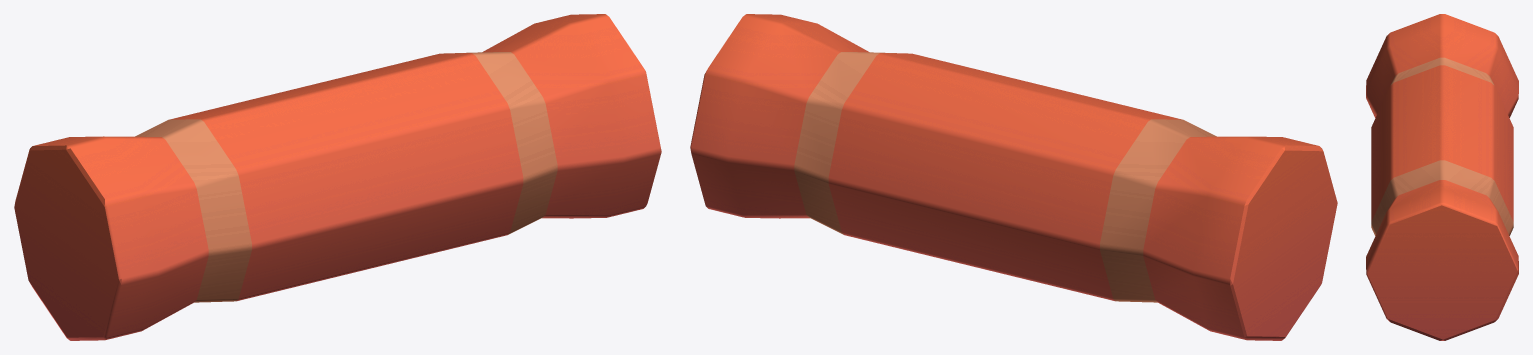
Rendered from kenney-survival__bedroll-packed.glb.
The picture shows the model from 3 angles, left to right: view 1: azimuth 30°, elevation 25°; view 2: azimuth 150°, elevation 25°; view 3: azimuth 270°, elevation 25°; orthographic projection. The views are drawn at different scales.
Visible parts, largest first — view 1: bedroll-packed; view 2: bedroll-packed; view 3: bedroll-packed.
Boxes of the visible parts, bbox=[...] form: bedroll-packed: bbox=[14, 14, 661, 340]; bedroll-packed: bbox=[690, 14, 1337, 340]; bedroll-packed: bbox=[1366, 14, 1518, 340].
Bounding box in the file's own units: 0.2604 × 0.0884 × 0.0884.
Materials: 1 (1 with a texture image).
